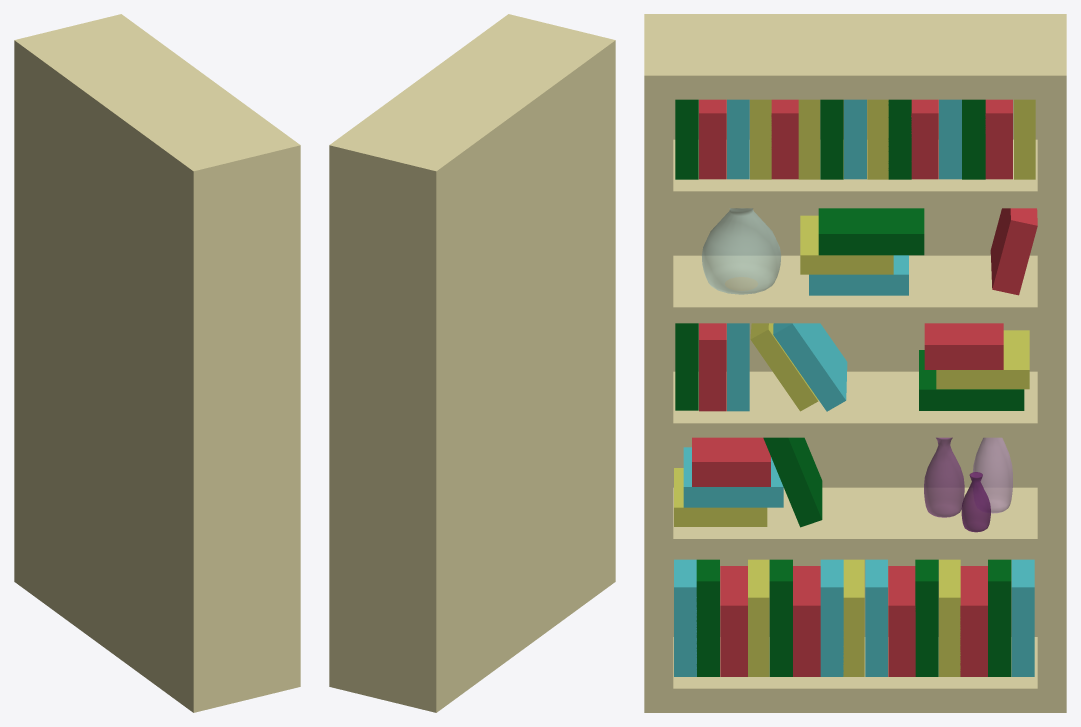
Rendered from Bookshelf.fbx.
3 views of the same model, side by side, from view 1: azimuth 30°, elevation 25°; view 2: azimuth 150°, elevation 25°; view 3: azimuth 270°, elevation 25° (orthographic). The views are drawn at different scales.
Visible parts, largest first — view 1: Shelves; view 2: Shelves; view 3: Shelves, Glass1, Book26, Book5, Book30, Book6, Book31, Book27, Book34, Book37, Book41, Book44 (+39 smaller).
Boxes of the visible parts, x1,y1,x2,y2 form: Shelves: [14, 14, 300, 712]; Shelves: [329, 14, 615, 712]; Shelves: [644, 14, 1066, 712]; Glass1: [702, 208, 780, 294]; Book26: [818, 208, 924, 255]; Book5: [773, 323, 847, 411]; Book30: [692, 437, 770, 486]; Book6: [924, 323, 1003, 369]; Book31: [763, 437, 822, 527]; Book27: [990, 208, 1037, 295]; Book34: [720, 566, 747, 676]; Book37: [793, 566, 820, 676]; Book41: [888, 566, 915, 676]; Book44: [960, 566, 987, 676].
Bounding box in the file's own units: 311 × 1500 × 900.
